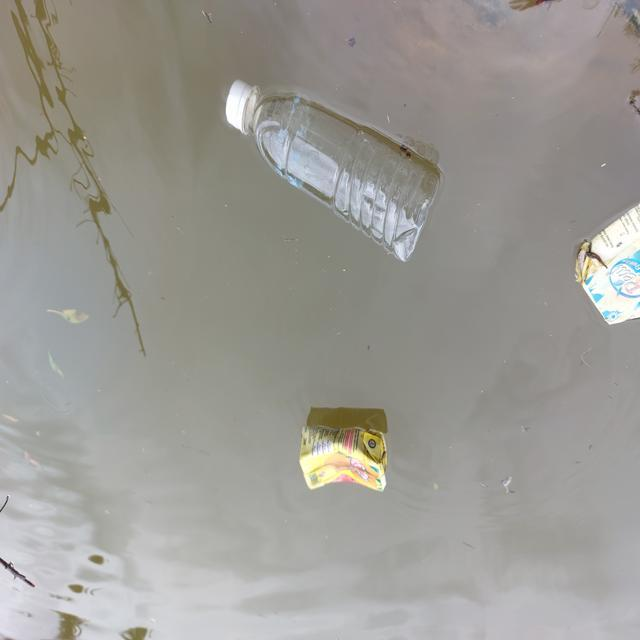paper: (278, 409, 411, 498), (556, 200, 640, 329)
waterbottle: (213, 70, 453, 259)
